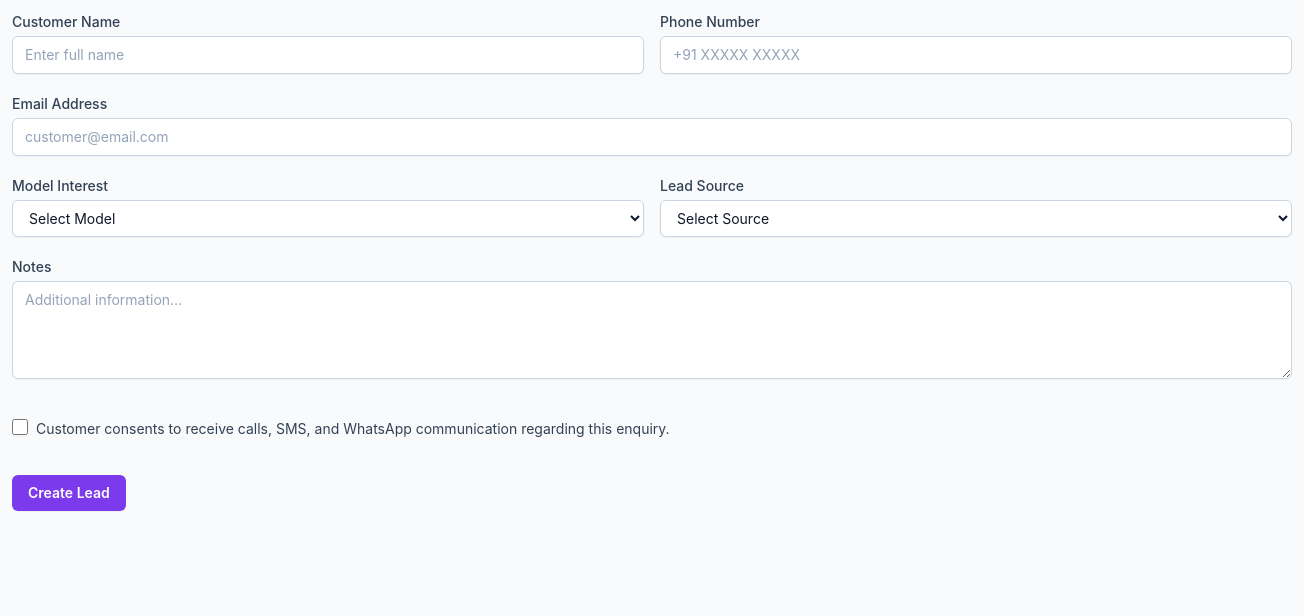
Scenario: NewLeadForm (simplified) › rejects an invalid mobile number
The image size is (1304, 616).
In the field labelled "Phone Number": (976, 55) [660,36,1292,74], type "12345"
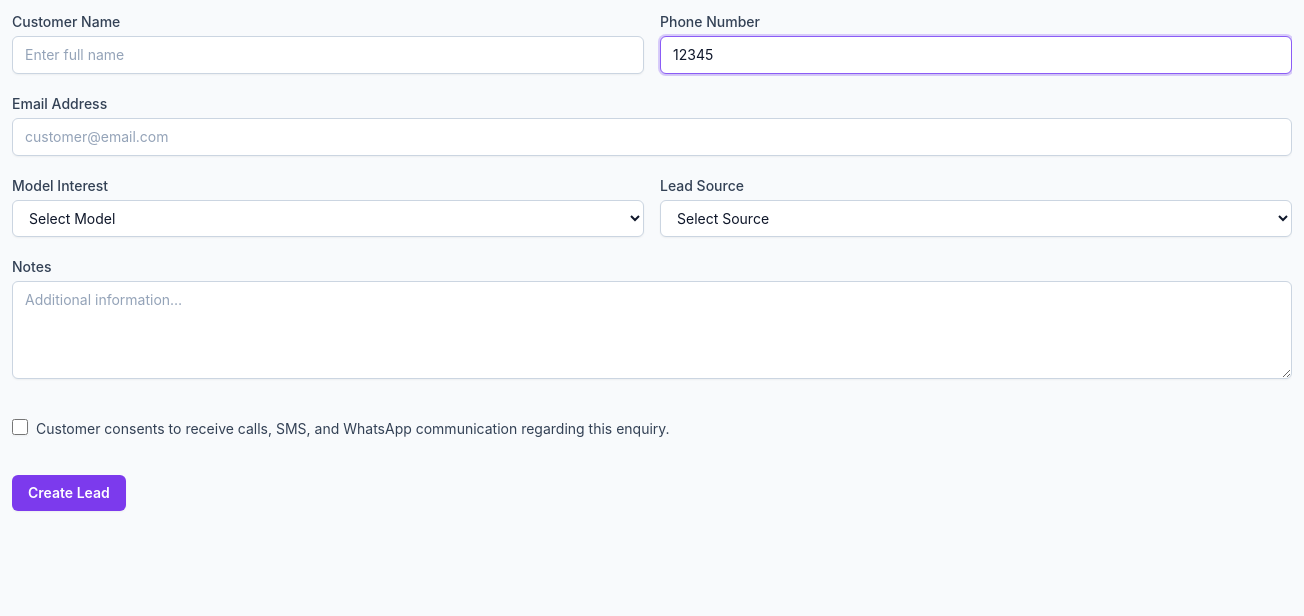
Click the button "Create Lead": (69, 493) [12,475,126,511]
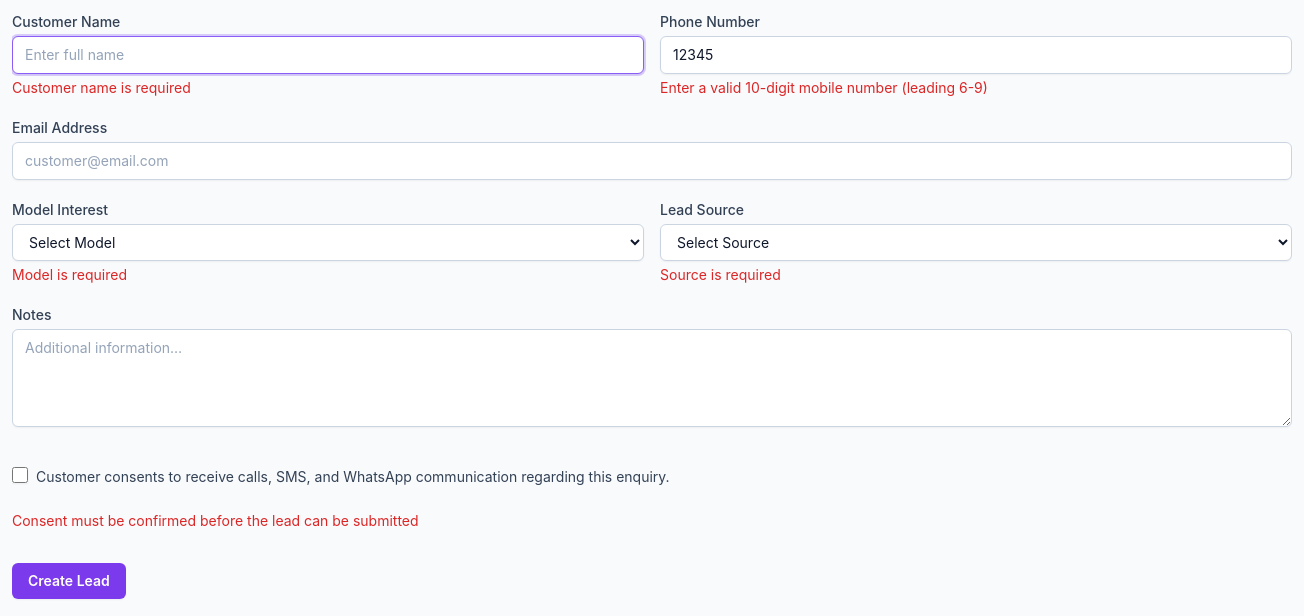
Result: the text "Enter a valid 10-digit mobile number (leading 6-9)" is shown at [660,79,988,96]
